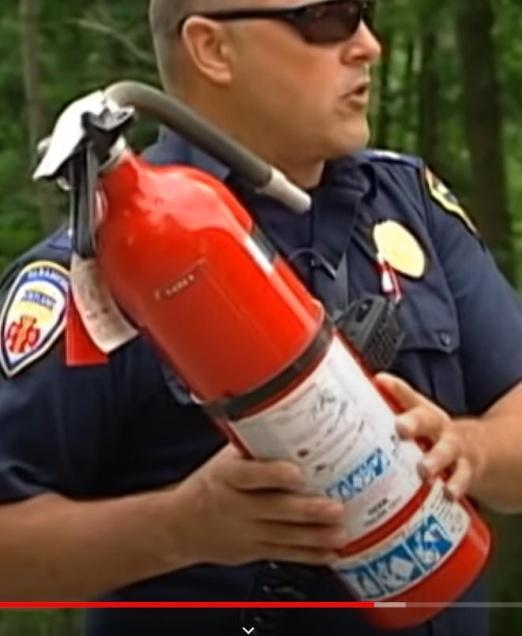APAR: (31, 96, 490, 600)
